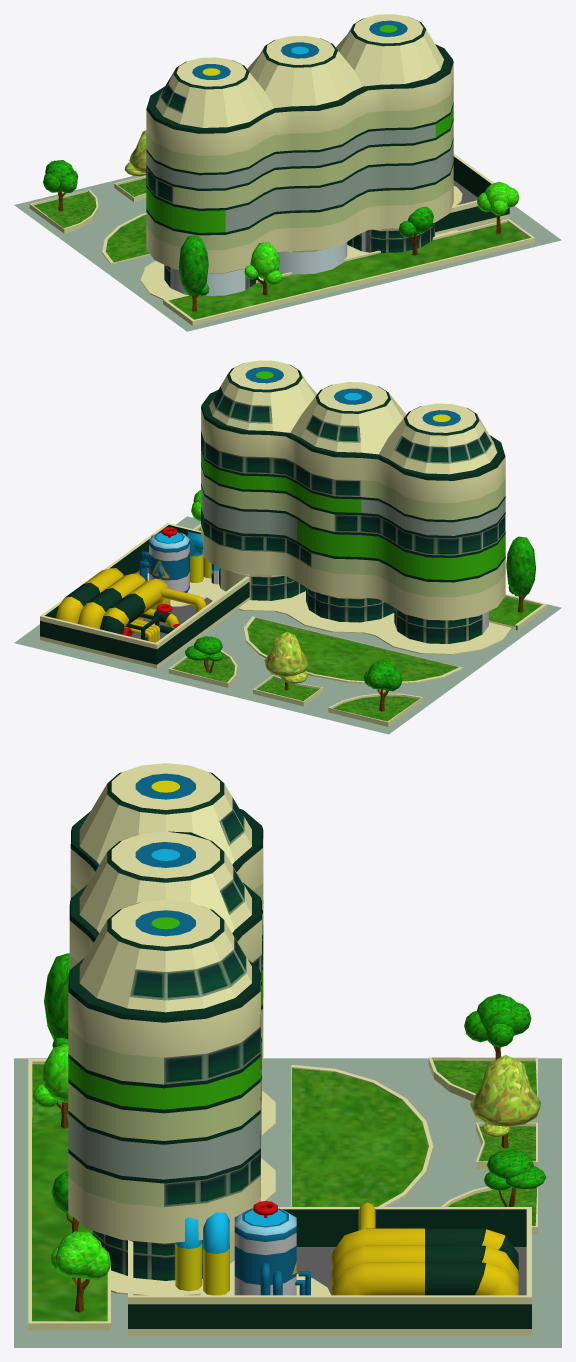
File: utilities_LV1.fbx
3 renders of one model, top to bottom at view 1: azimuth 30°, elevation 25°; view 2: azimuth 150°, elevation 25°; view 3: azimuth 270°, elevation 25°, orthographic. The views are drawn at different scales.
Parts seen in each view (by area): view 1: utilities 1; view 2: utilities 1; view 3: utilities 1.
Part boxes in pixels (left/top/right/bottom): utilities 1: left=14, top=14, right=561, bottom=331; utilities 1: left=14, top=360, right=561, bottom=734; utilities 1: left=14, top=763, right=561, bottom=1347.
Size of the model in its own units: 120 by 65.17 by 96.
